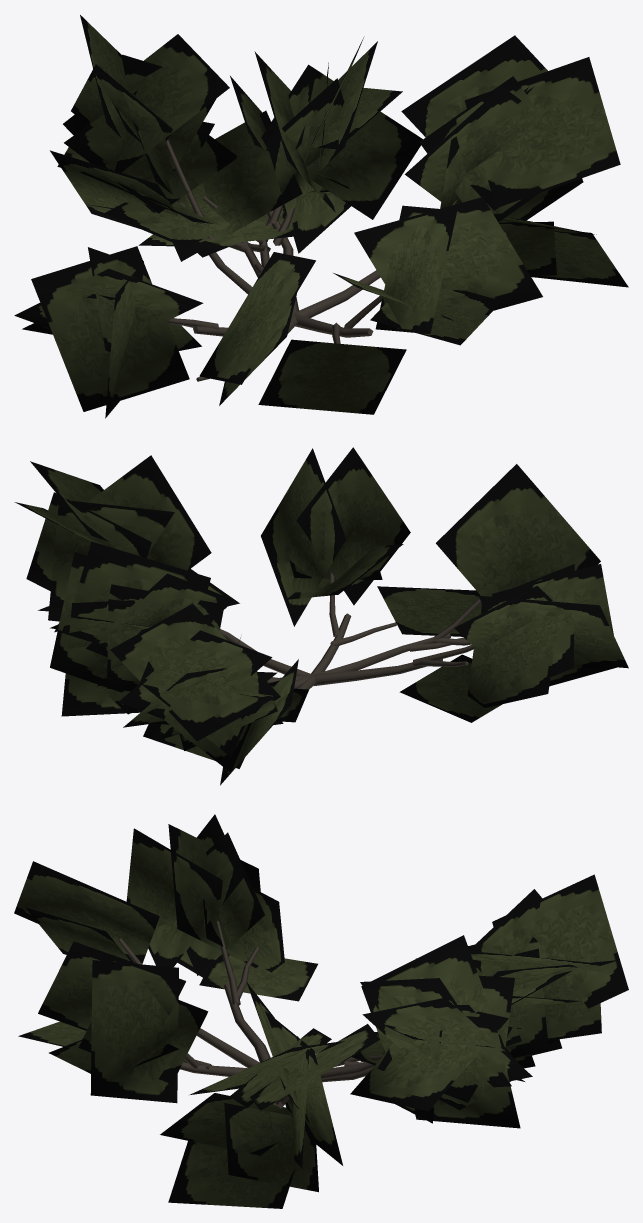
Rendered from juniper_2_burnt2.glb.
3 views of the same model, one above another, from view 1: azimuth 30°, elevation 25°; view 2: azimuth 150°, elevation 25°; view 3: azimuth 270°, elevation 25° (orthographic). The views are drawn at different scales.
Parts seen in each view (by area): view 1: juniper_2_burnt2; view 2: juniper_2_burnt2; view 3: juniper_2_burnt2.
Part boxes in pixels (<box>): juniper_2_burnt2: <box>14,15,628,418</box>; juniper_2_burnt2: <box>14,447,628,785</box>; juniper_2_burnt2: <box>14,814,628,1208</box>.
Bounding box in the file's own units: 3.4 × 1.09 × 3.18.
Materials: 2 (1 with a texture image).
